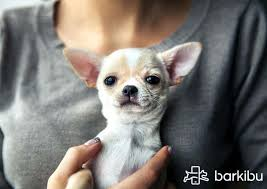chihuahua: (59, 40, 215, 189)
